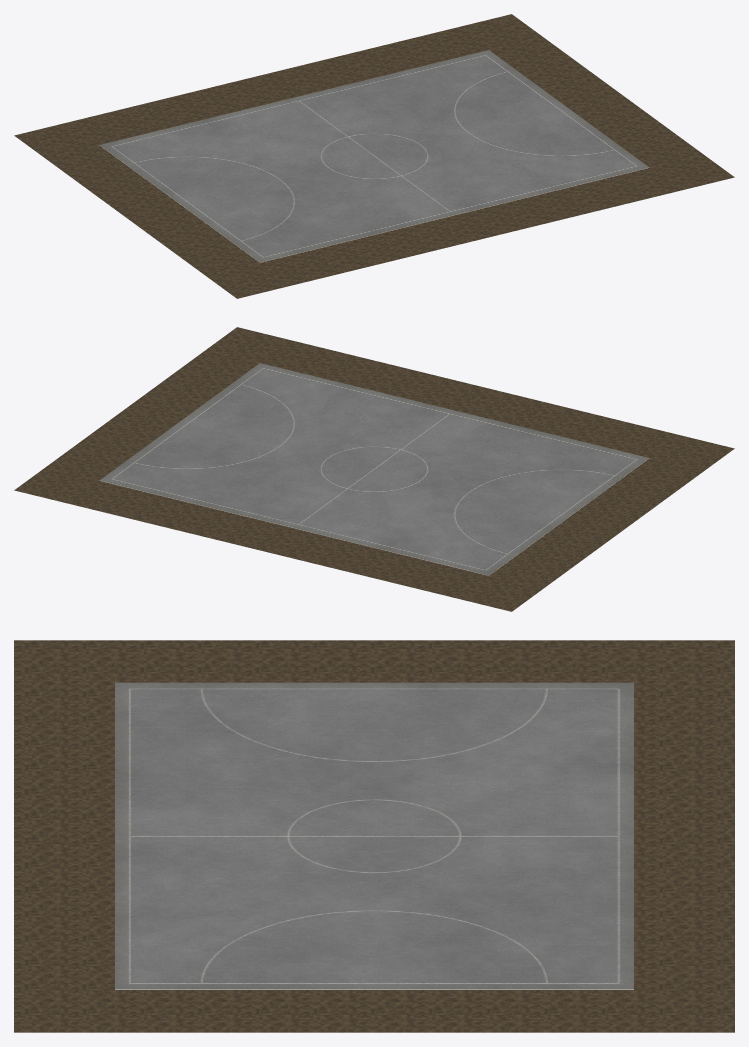
The model's file is boni_boden.glb.
The picture shows the model from 3 angles, top to bottom: view 1: azimuth 30°, elevation 25°; view 2: azimuth 150°, elevation 25°; view 3: azimuth 270°, elevation 25°; orthographic projection. The views are drawn at different scales.
Visible parts, largest first — view 1: court, apron; view 2: court, apron; view 3: court, apron.
Boxes of the visible parts, x1,y1,x2,y2 form: court: (99,50,648,262); apron: (14,14,734,298); court: (100,363,649,575); apron: (14,327,734,611); court: (115,682,633,989); apron: (14,640,734,1032).
Size of the model in its own units: 32.2 by 0.01 by 25.
2 materials, 2 textured.
